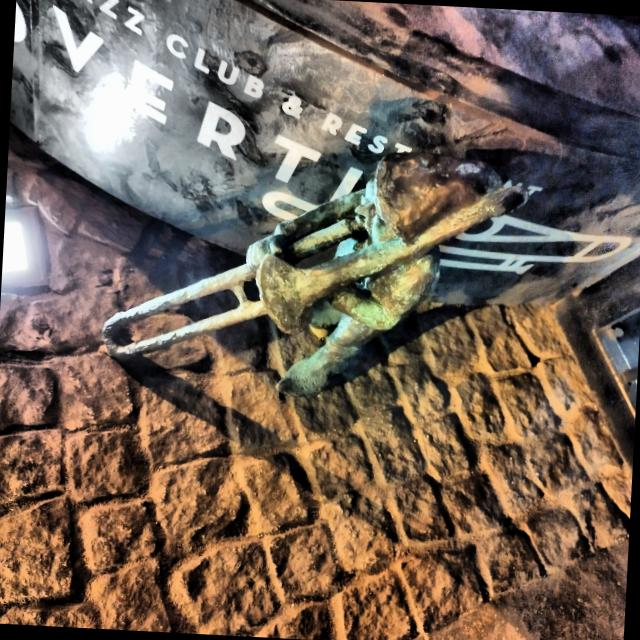Vertigus: (103, 152, 528, 397)
